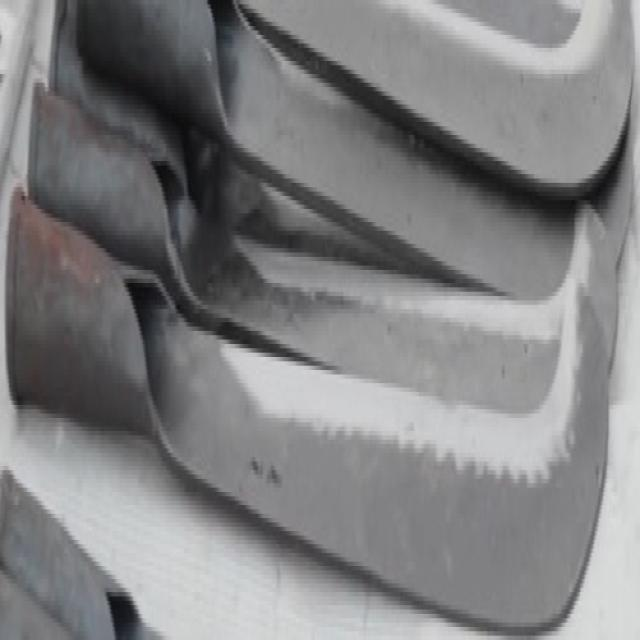knives: (41, 0, 618, 634)
